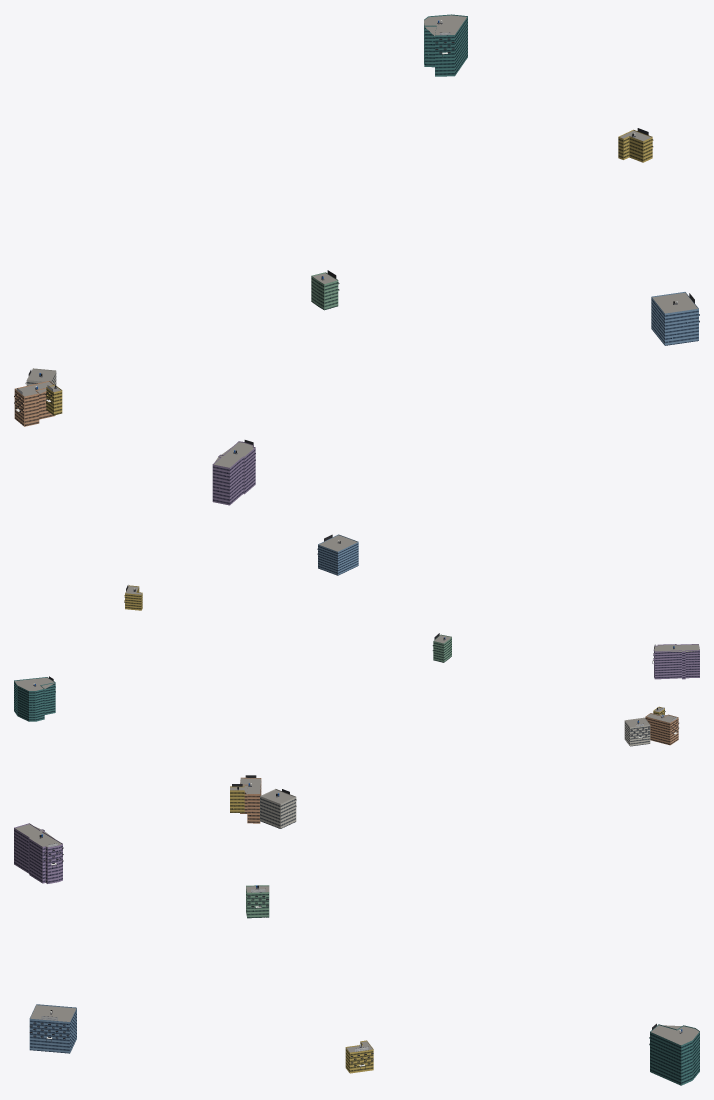
File: hotels-27363-14868.85bcf004.glb
3 renders of one model, top to bottom at view 1: azimuth 30°, elevation 25°; view 2: azimuth 150°, elevation 25°; view 3: azimuth 270°, elevation 25°, orthographic. The views are drawn at different scales.
Bounding box in the file's own units: 697 × 97.54 × 618.
Materials: 4 (2 with a texture image).
